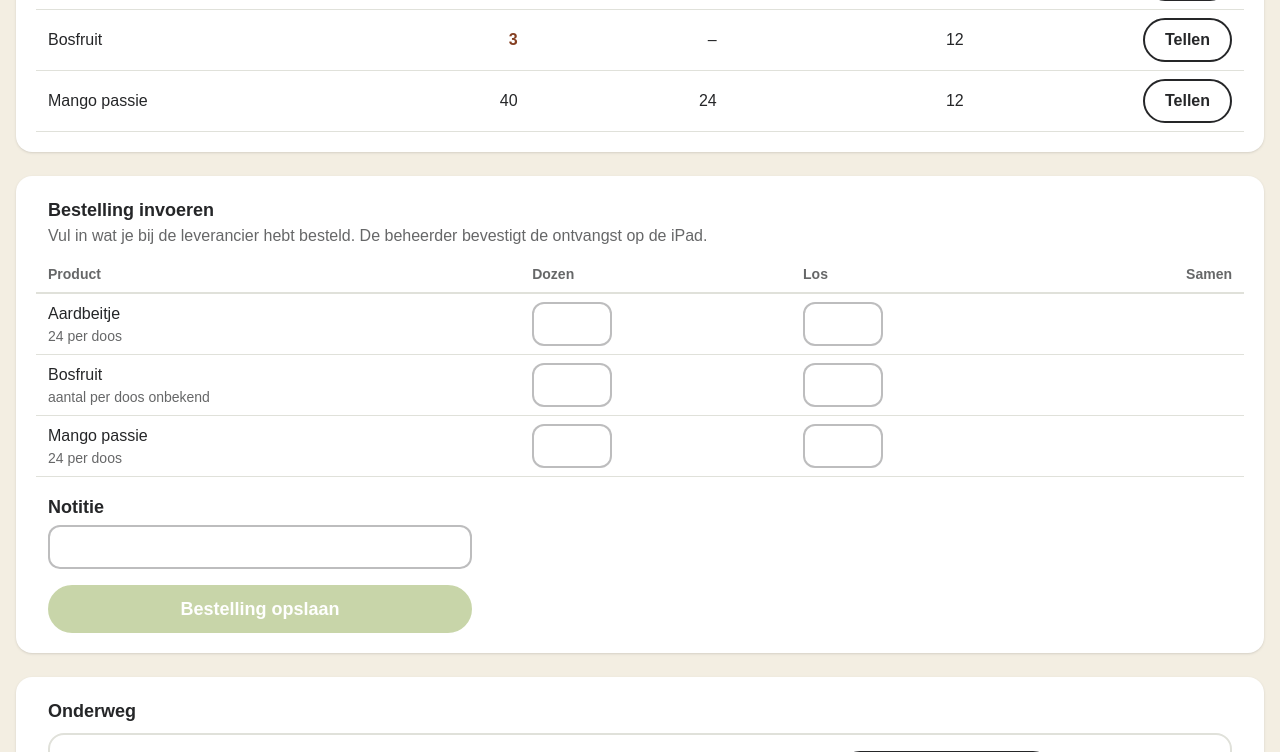
points to the product page when the box size is missing, and sends nothing
This screenshot has width=1280, height=752.
(page scrolled)
Type "1" into the number field named "Dozen" in the row of "aantal per doos onbekend".
click(572, 385); type("1")  # box 532,363 -> 612,407
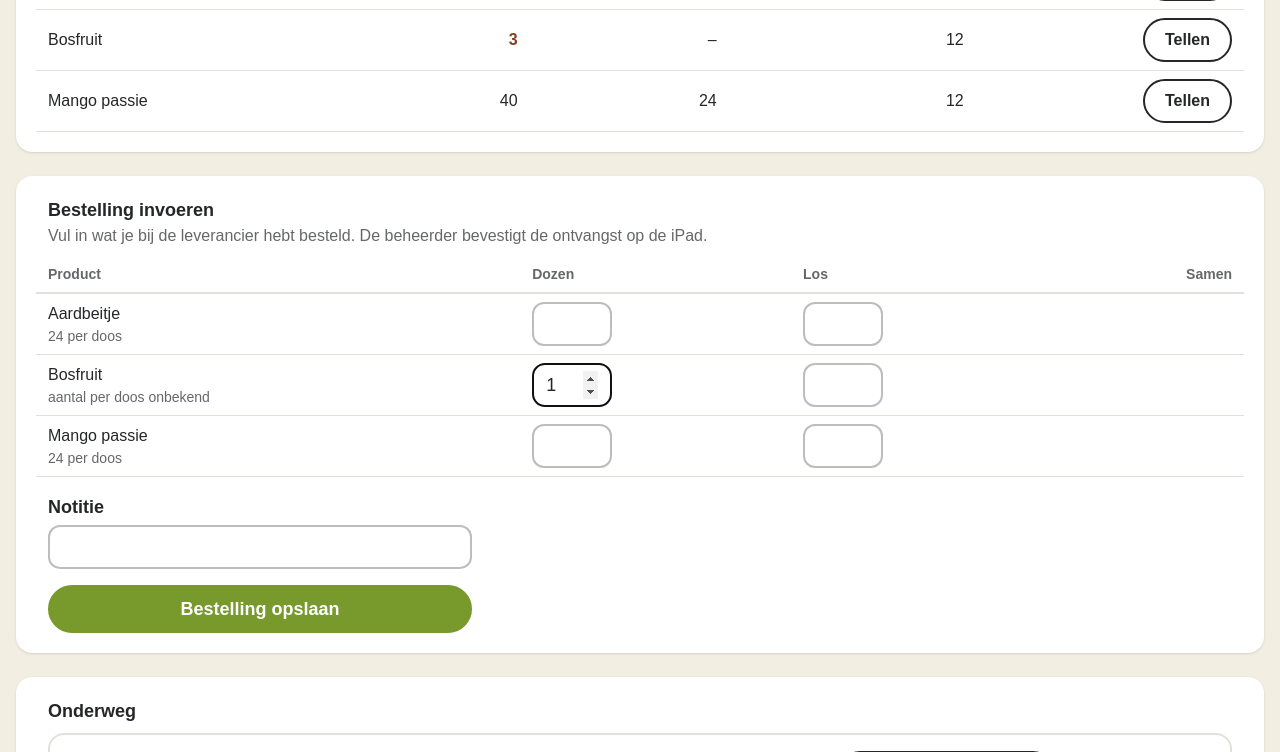
Click the button "Bestelling opslaan".
click(260, 609)  # box 48,585 -> 472,633
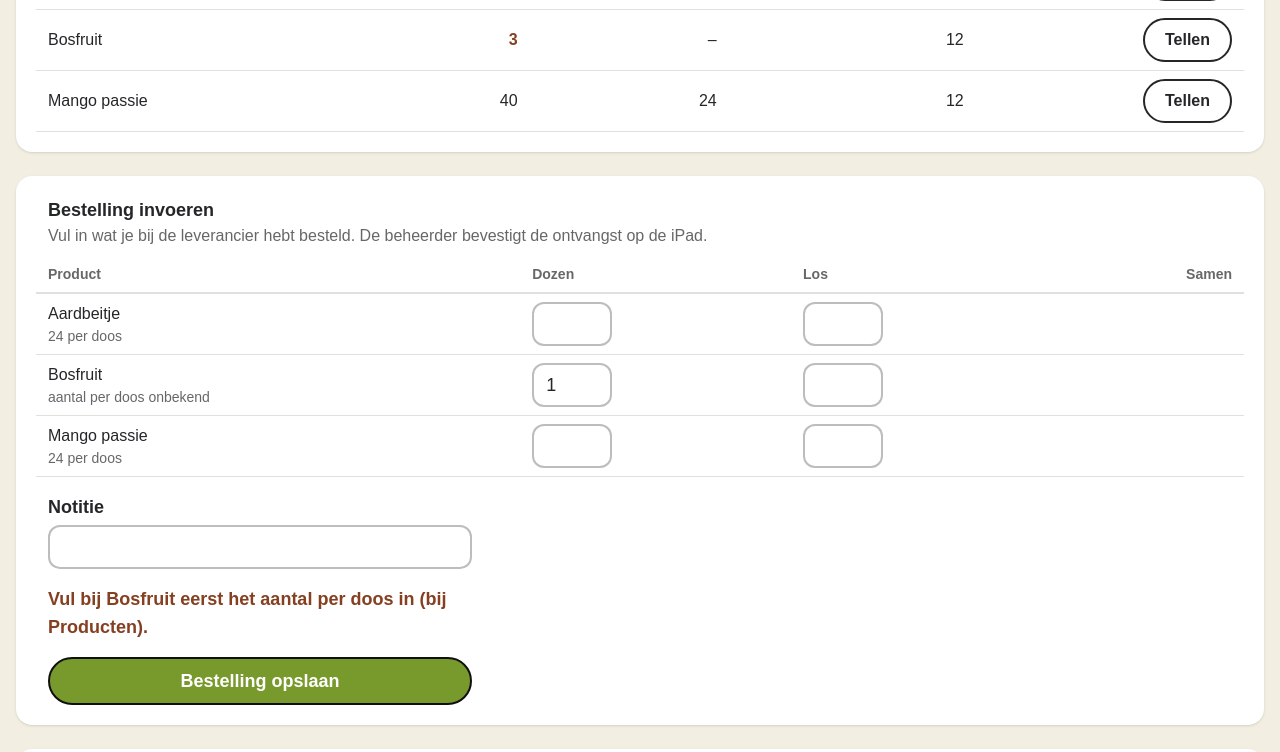
Now the text "Vul bij Bosfruit eerst het aantal per doos in (bij Producten)." is shown, box 48,585 -> 472,641
